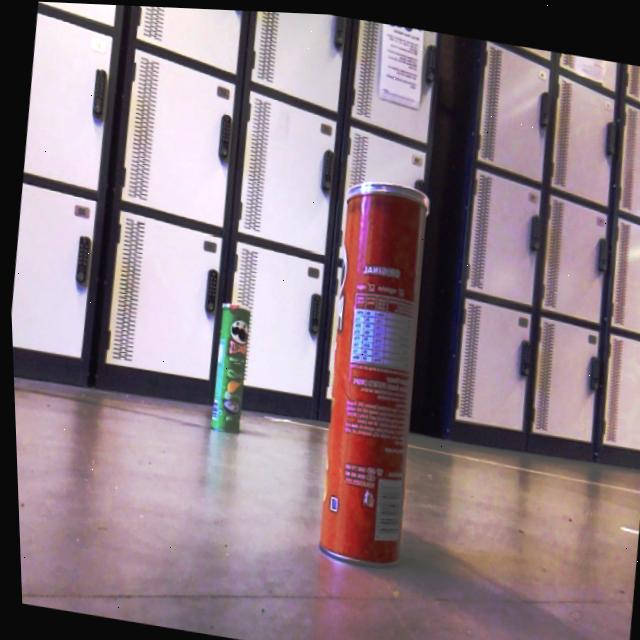greenpringles: (191, 290, 257, 439)
redpringles: (293, 169, 452, 582)
